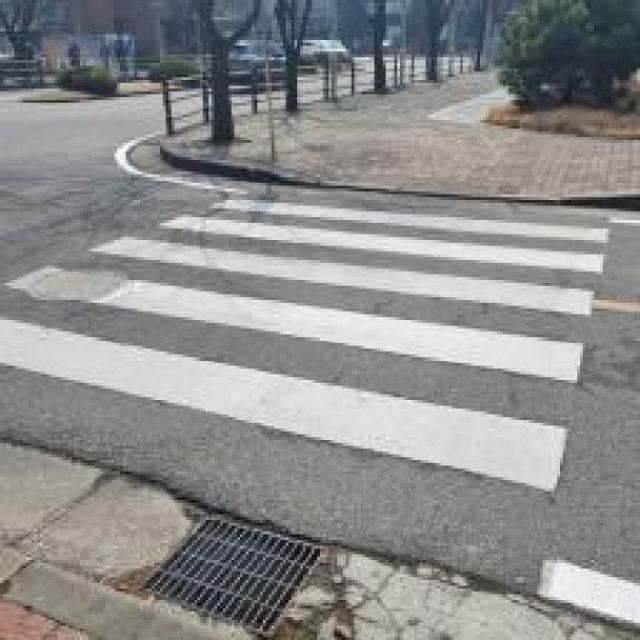walk-crossing: (94, 203, 590, 507)
